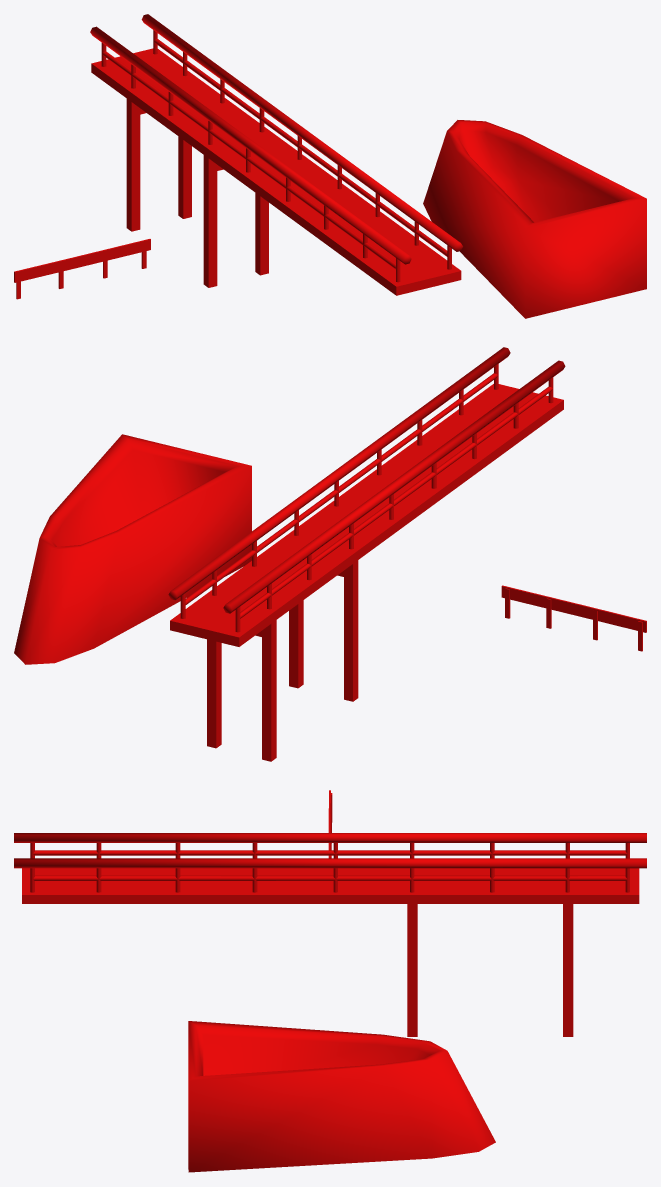
File: AngkaewProp2.fbx
The picture shows the model from 3 angles, top to bottom: view 1: azimuth 30°, elevation 25°; view 2: azimuth 150°, elevation 25°; view 3: azimuth 270°, elevation 25°; orthographic projection. The views are drawn at different scales.
Parts seen in each view (by area): view 1: bridge, waterslot, Fence_new; view 2: bridge, waterslot, Fence_new; view 3: bridge, waterslot.
Part boxes in pixels (bbox=[...]): bridge: bbox=[90, 14, 462, 295]; waterslot: bbox=[423, 120, 646, 318]; Fence_new: bbox=[14, 239, 150, 299]; bridge: bbox=[168, 347, 565, 761]; waterslot: bbox=[14, 434, 251, 664]; Fence_new: bbox=[501, 585, 646, 651]; bridge: bbox=[14, 833, 646, 1036]; waterslot: bbox=[188, 1021, 495, 1172].
Bounding box in the file's own units: 1.3 × 0.387 × 1.25.
